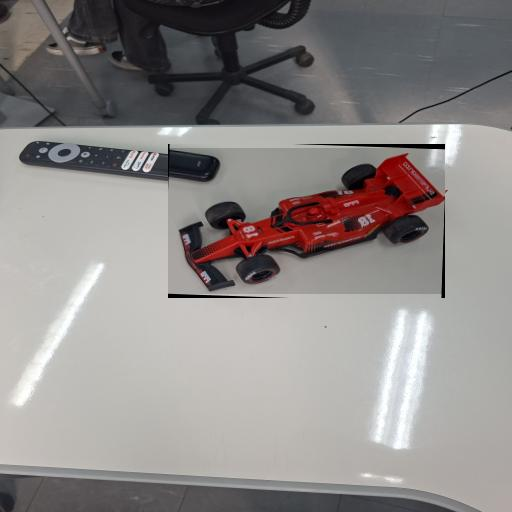carro: (168, 148, 444, 294)
